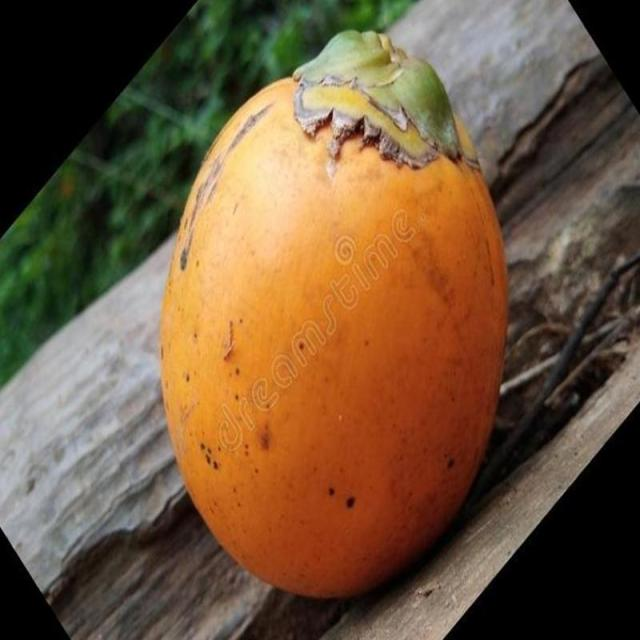good: (158, 31, 510, 604)
